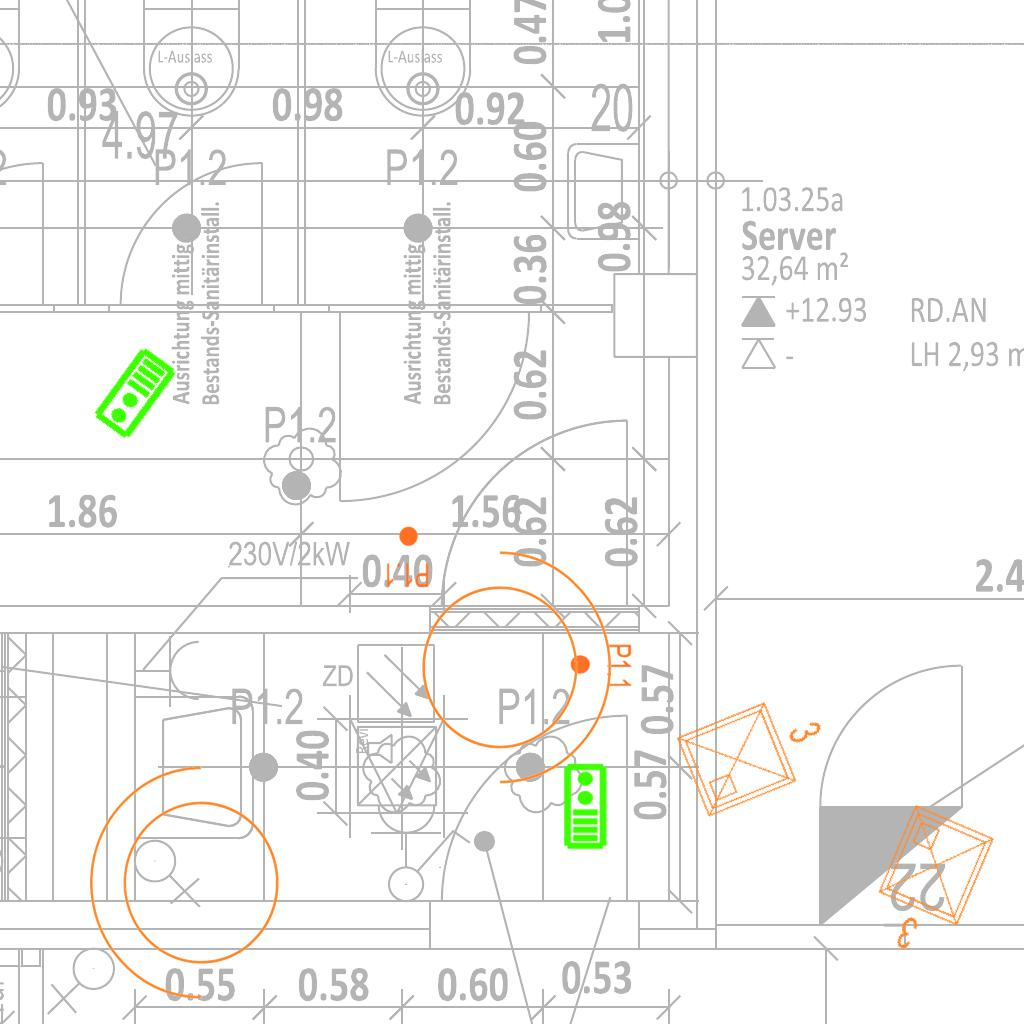Downlight_LED_Einbauleuchten_Flur: (569, 643, 633, 689), (384, 525, 430, 589)
Einbaudownlights_LED_Konferenzraeume: (852, 795, 1008, 975), (665, 673, 845, 827)
Gegensprechanlage_mit_Video: (90, 344, 181, 444), (561, 762, 608, 850)
Scheinwerfer_fuer_Alarmbeleuchtung: (79, 757, 304, 1021), (397, 529, 622, 793)
